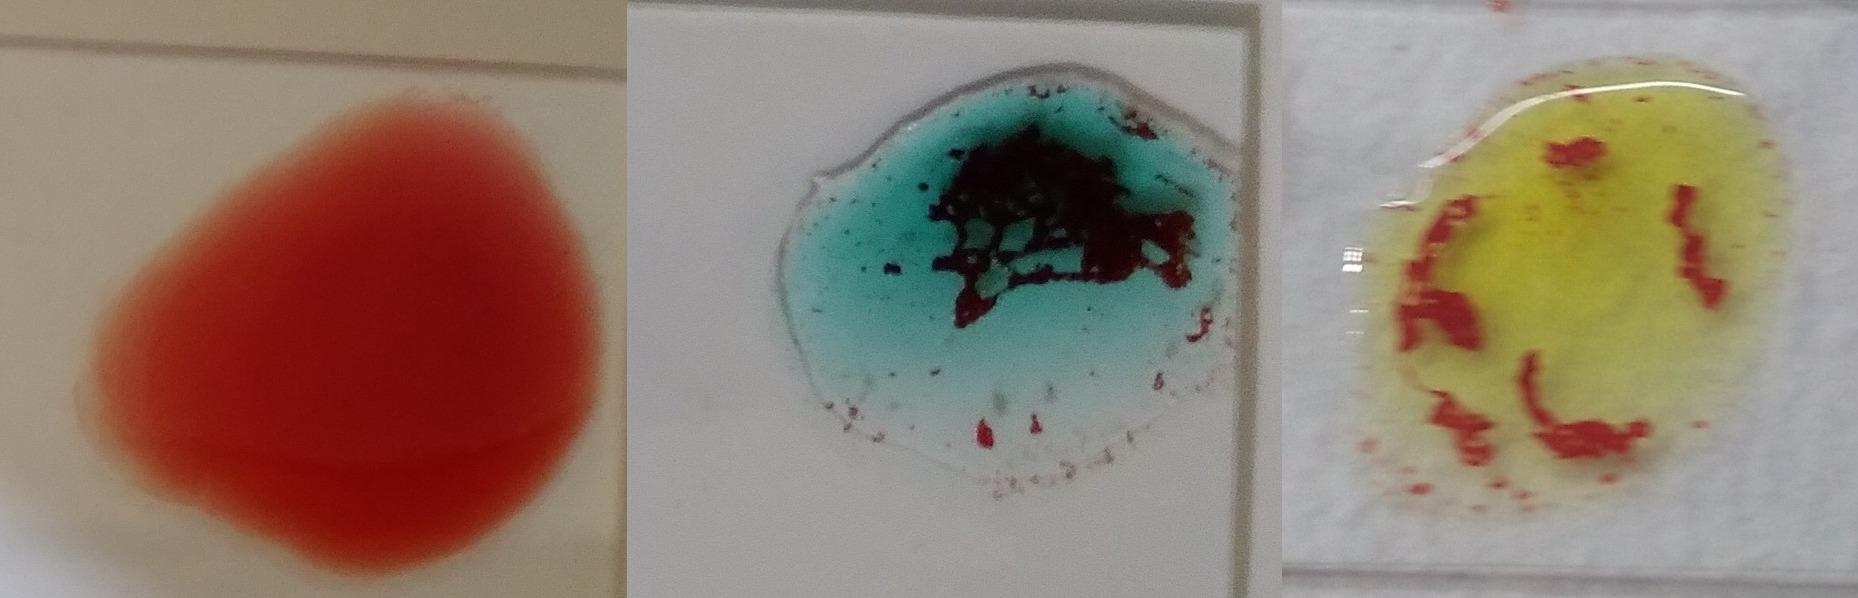A: (771, 62, 1225, 474)
B: (1345, 54, 1774, 522)
